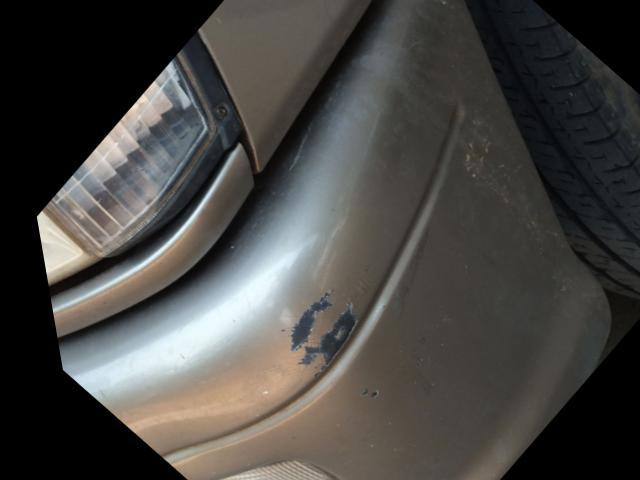scratch: (273, 284, 349, 376)
